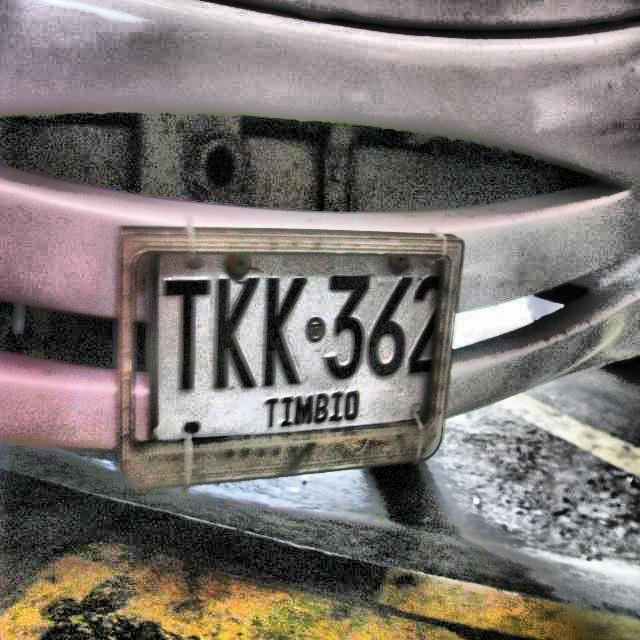plate: (150, 259, 447, 441)
